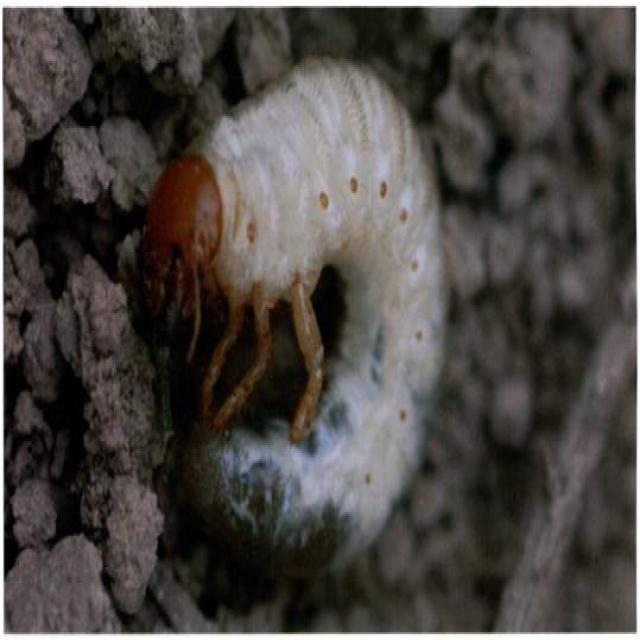Grub-Adult-: (142, 43, 458, 575)
